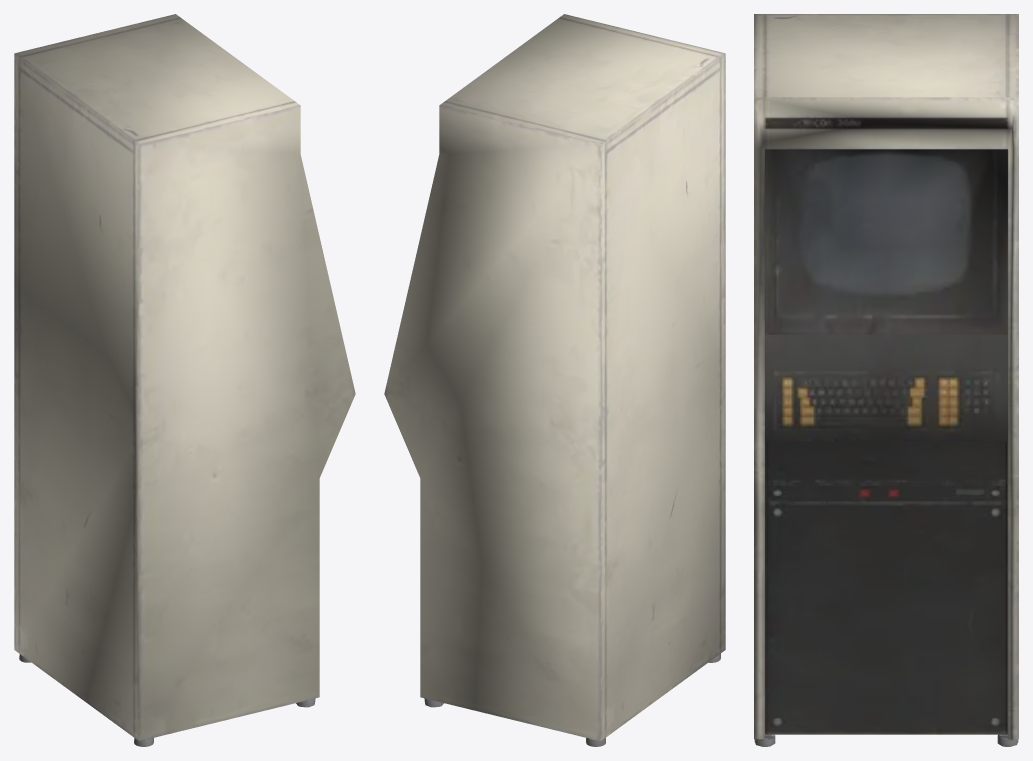
The model's file is computer_cabinet_c.glb.
3 renders of one model, left to right at view 1: azimuth 30°, elevation 25°; view 2: azimuth 150°, elevation 25°; view 3: azimuth 270°, elevation 25°, orthographic. The views are drawn at different scales.
Visible parts, largest first — view 1: computer_cabinet_c; view 2: computer_cabinet_c; view 3: computer_cabinet_c.
Boxes of the visible parts, <box> form: computer_cabinet_c: <box>14,14,355,746</box>; computer_cabinet_c: <box>384,14,725,746</box>; computer_cabinet_c: <box>754,14,1018,746</box>.
Bounding box in the file's own units: 0.75 × 2 × 0.75.
1 material, 1 textured.
